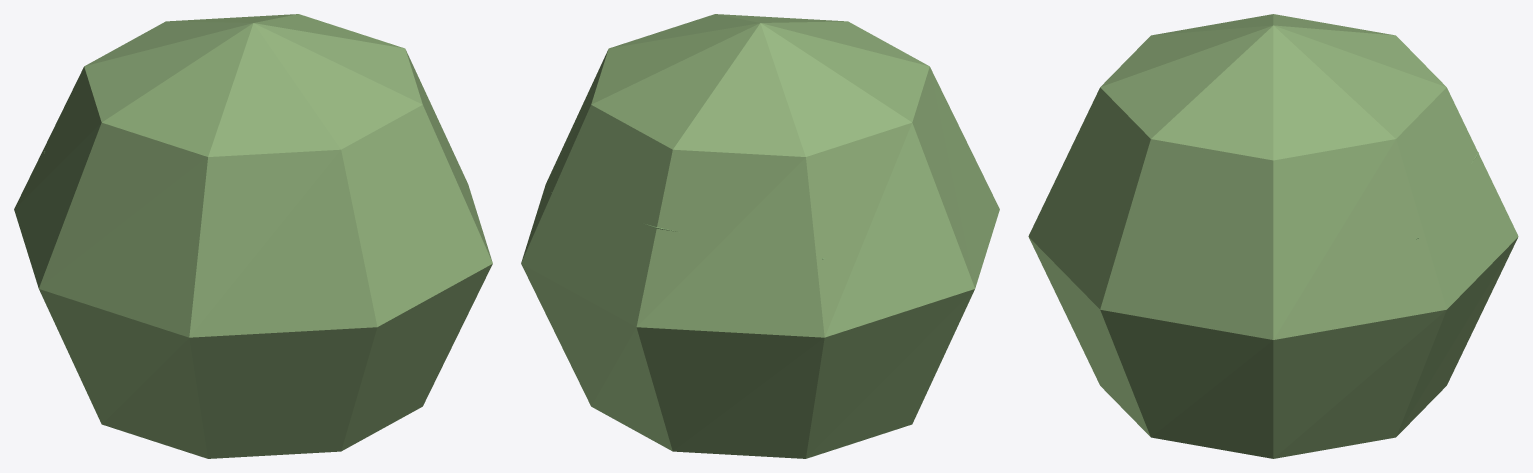
Rendered from cabbage.glb.
The picture shows the model from 3 angles, left to right: view 1: azimuth 30°, elevation 25°; view 2: azimuth 150°, elevation 25°; view 3: azimuth 270°, elevation 25°; orthographic projection.
Parts seen in each view (by area): view 1: cabbage; view 2: cabbage; view 3: cabbage.
Boxes of the visible parts, bbox=[...] form: cabbage: bbox=[14, 14, 492, 458]; cabbage: bbox=[521, 14, 999, 458]; cabbage: bbox=[1028, 14, 1518, 458].
Size of the model in its own units: 0.28 by 0.266 by 0.28.
